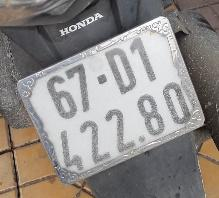0: (156, 75, 199, 131)
1: (127, 33, 166, 88)
2: (74, 113, 114, 167), (104, 106, 140, 160)
4: (51, 125, 88, 183)
6: (41, 72, 79, 122)
7: (62, 56, 100, 119)
8: (131, 92, 170, 143)
D: (96, 41, 145, 103)
